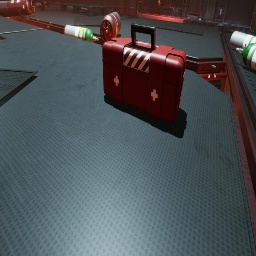0: (64, 25, 99, 42), (236, 43, 256, 71), (230, 31, 256, 49)
FireExtinguisher ]: (36, 2, 45, 10), (44, 1, 50, 8)
FirstAidBox ,: (102, 23, 186, 124)
NitrogenTank ,: (100, 12, 121, 43), (0, 0, 35, 17)
